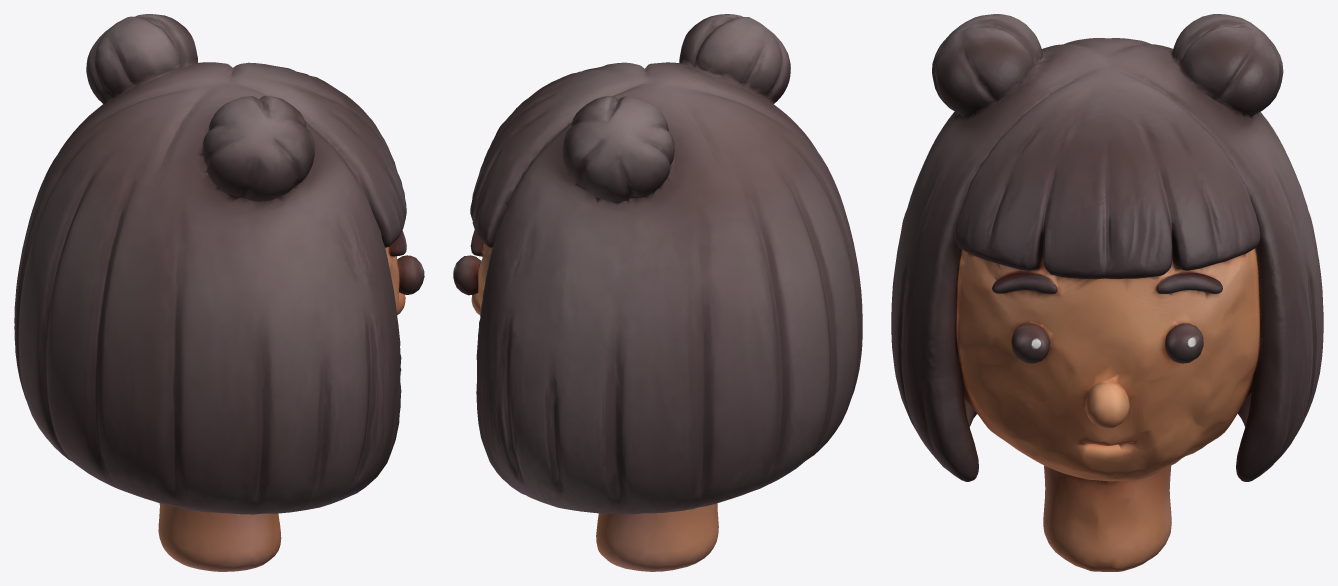
The model's file is hair_mika.glb.
The picture shows the model from 3 angles, left to right: view 1: azimuth 30°, elevation 25°; view 2: azimuth 150°, elevation 25°; view 3: azimuth 270°, elevation 25°; orthographic projection. The views are drawn at different scales.
Visible parts, largest first — view 1: tripo_node_3396f216-53a1-45a6-96ae-f07cc616a020; view 2: tripo_node_3396f216-53a1-45a6-96ae-f07cc616a020; view 3: tripo_node_3396f216-53a1-45a6-96ae-f07cc616a020.
Boxes of the visible parts, x1,y1,x2,y2 form: tripo_node_3396f216-53a1-45a6-96ae-f07cc616a020: (14,14,424,571); tripo_node_3396f216-53a1-45a6-96ae-f07cc616a020: (453,14,862,571); tripo_node_3396f216-53a1-45a6-96ae-f07cc616a020: (891,14,1323,571).
Size of the model in its own units: 0.7465 by 1 by 0.749.
1 material, 1 textured.
